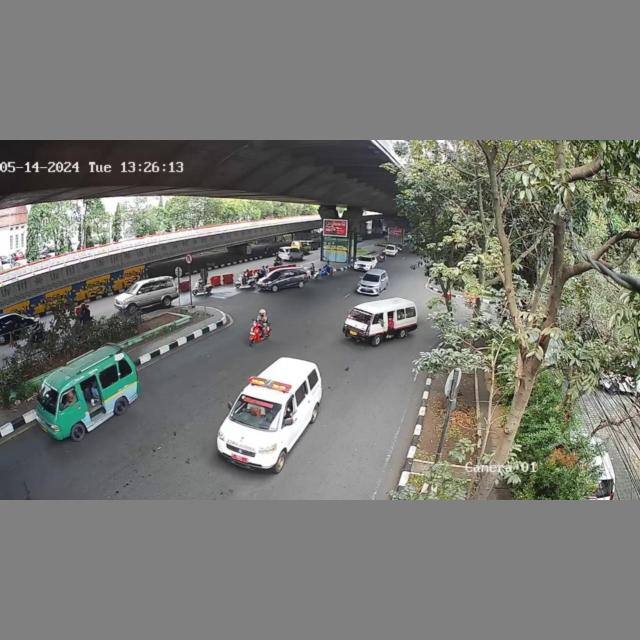windshield: (231, 395, 283, 433), (345, 305, 374, 327), (362, 273, 381, 283)
